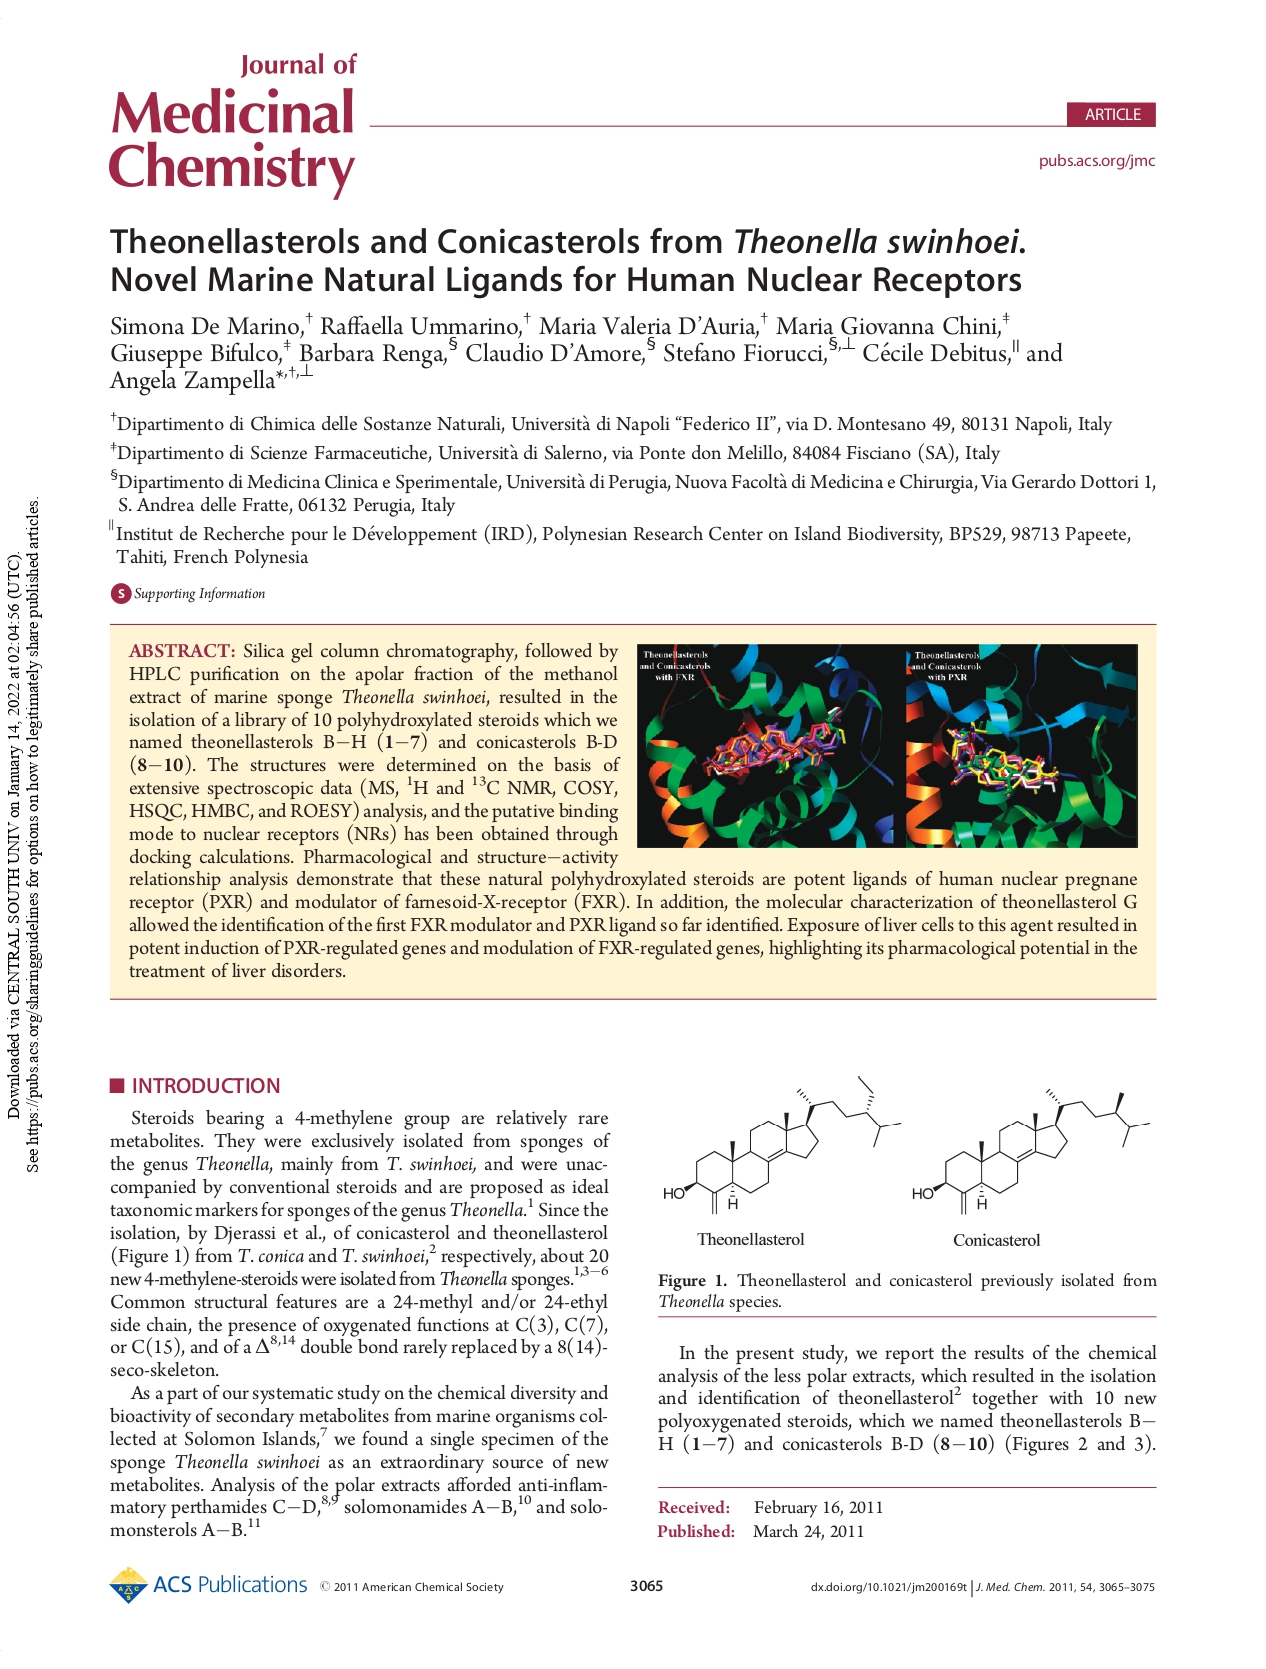exist_molecular: (660, 1069, 902, 1216), (912, 1087, 1152, 1216)
